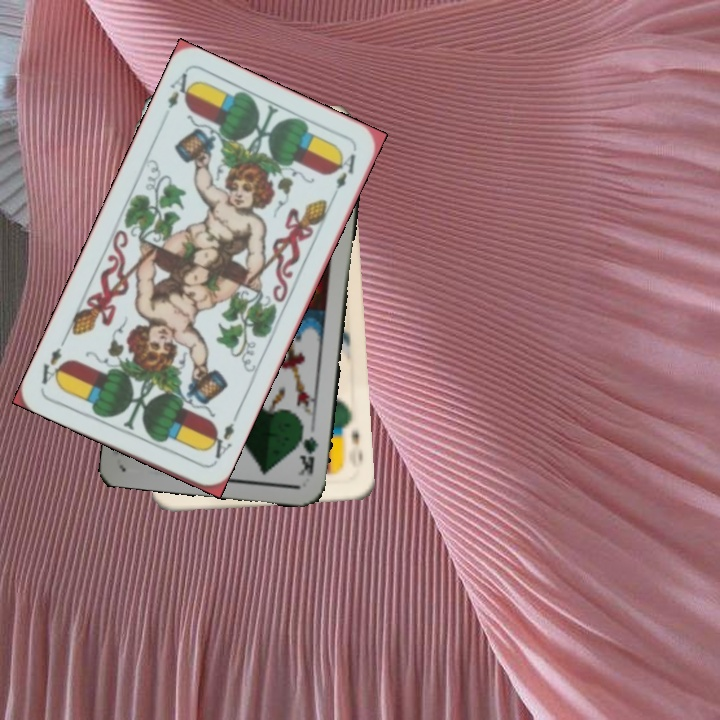EA: (202, 411, 241, 467), (163, 68, 198, 111)
EO: (338, 417, 362, 447)
GK: (294, 421, 321, 479)
